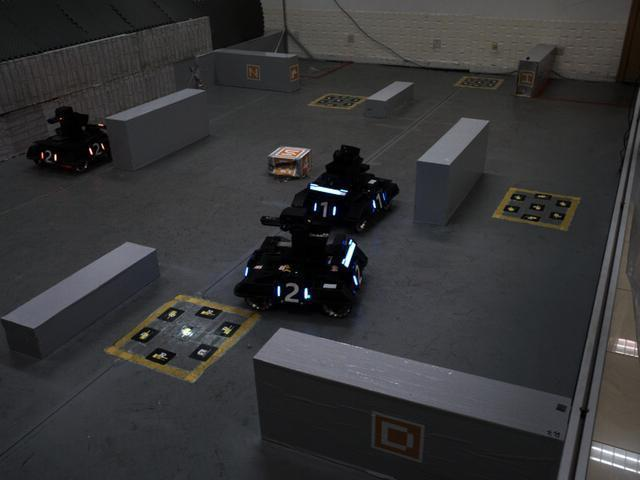armor: (272, 279, 309, 307), (347, 256, 370, 294), (308, 196, 341, 222), (367, 186, 390, 216), (82, 138, 109, 158), (36, 146, 60, 167)
